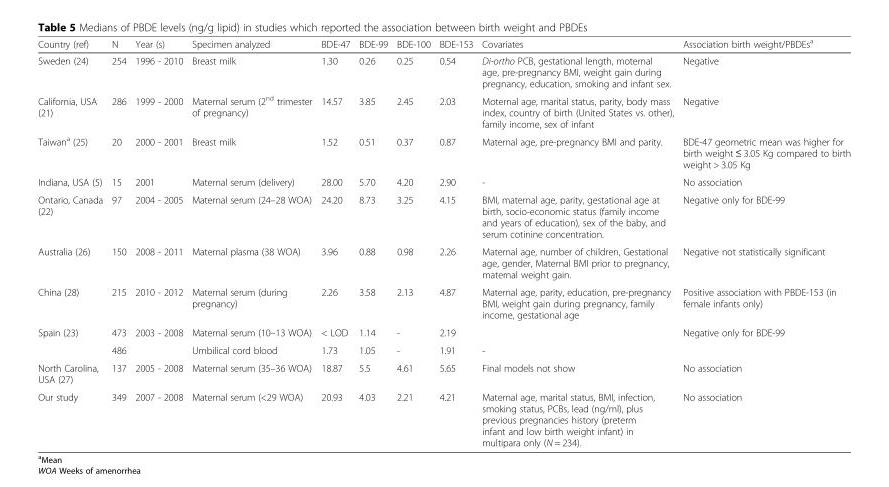table: (37, 36, 850, 447)
table column: (476, 36, 677, 447), (677, 36, 850, 447), (186, 36, 316, 447), (37, 36, 106, 447), (130, 36, 186, 447), (391, 36, 434, 447), (434, 36, 476, 447), (353, 36, 391, 447), (316, 36, 353, 447), (106, 36, 130, 447)
table column header: (37, 36, 850, 52)
table row: (37, 387, 850, 447), (37, 190, 850, 242), (37, 131, 850, 172), (37, 282, 850, 323), (37, 91, 850, 131), (37, 242, 850, 282), (37, 52, 850, 91), (37, 358, 850, 387), (37, 172, 850, 190), (37, 323, 850, 341), (37, 341, 850, 358), (37, 36, 850, 52)
table spanning cell: (677, 323, 850, 358), (37, 323, 106, 358), (130, 323, 186, 358)
